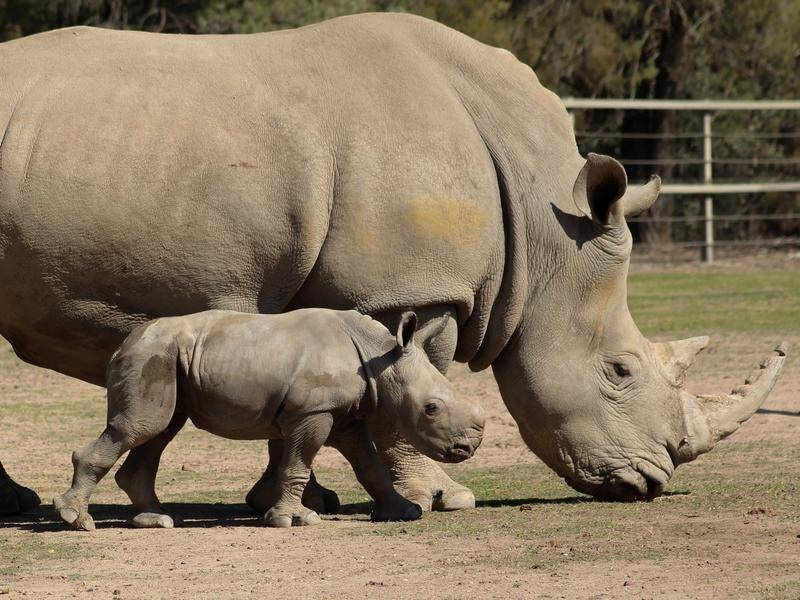rhino: (1, 10, 789, 502), (53, 308, 484, 534)
